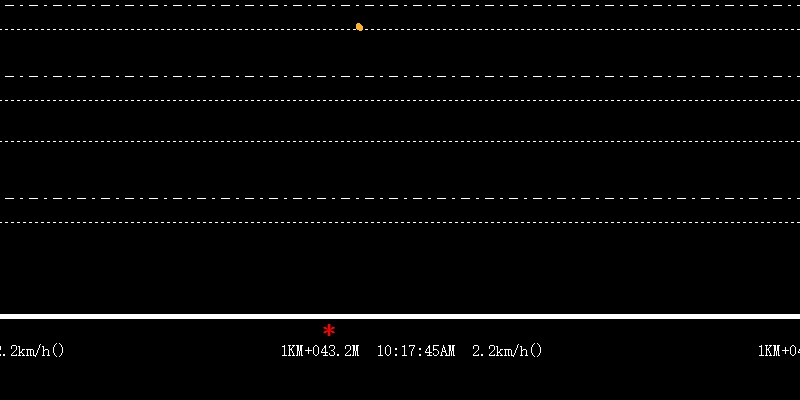face_1: (353, 20, 365, 34)
star: (322, 322, 334, 338)
